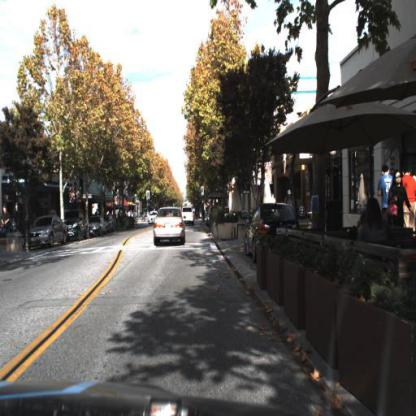car: (245, 201, 298, 261), (148, 205, 188, 249), (29, 215, 67, 254), (67, 210, 89, 241), (91, 213, 109, 240), (180, 205, 196, 226)
pedestrian: (361, 198, 393, 254), (391, 171, 415, 245), (399, 164, 416, 234), (379, 163, 396, 226), (1, 203, 12, 241), (286, 186, 295, 208), (269, 190, 278, 208)
